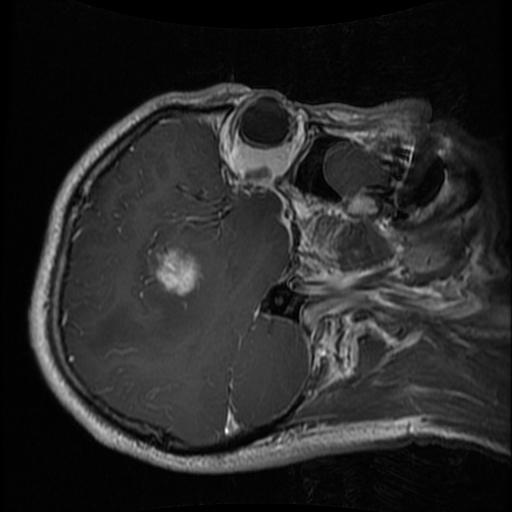glioma: (156, 248, 203, 294)
